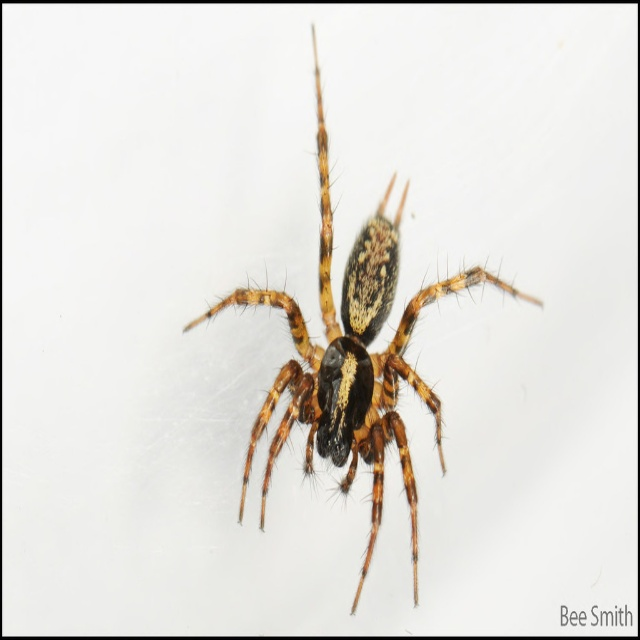Spider: (181, 23, 545, 616)
